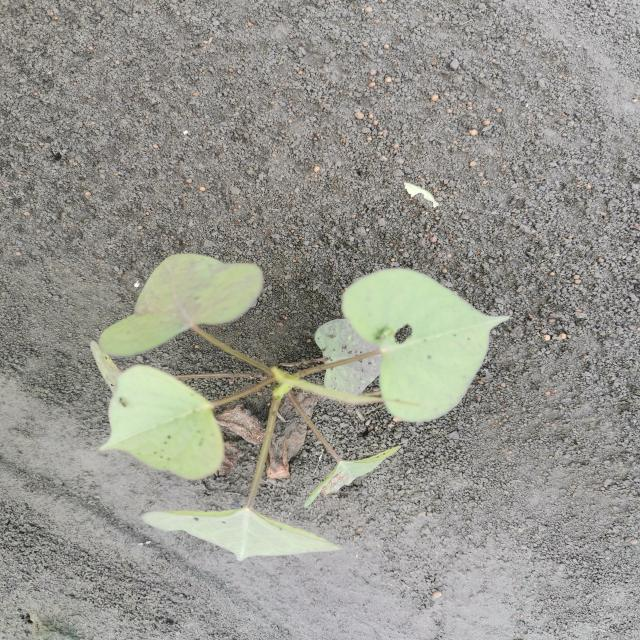MorningGlory: (94, 252, 516, 566)
